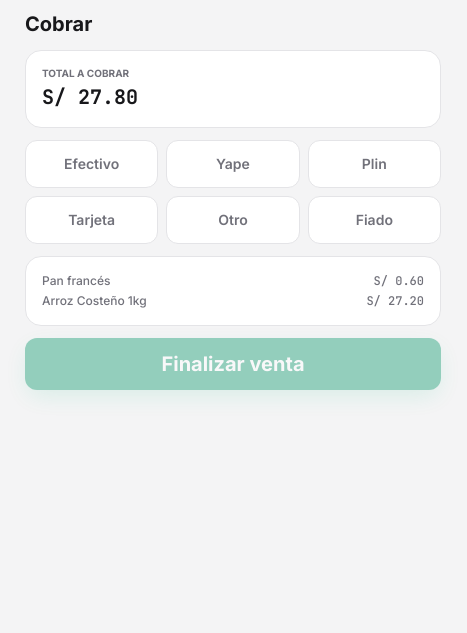
Test: CheckoutScreen › charges the exact amount for the wallet methods, without bill chips
The width and height of the screenshot is (467, 633).
Step 1. Click the button with test id "tender-method-plin" → (374, 164), box 308,140 -> 441,188
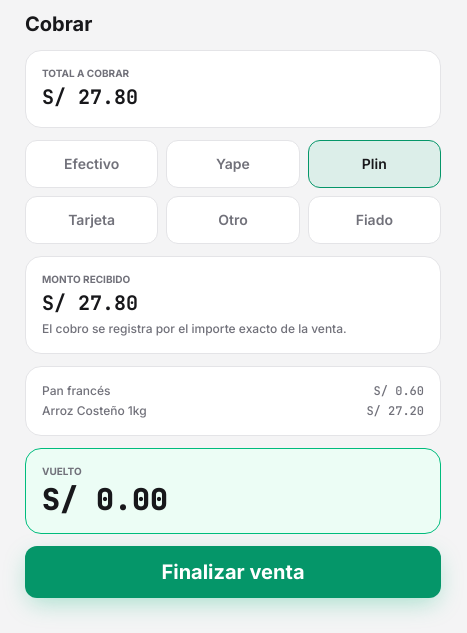
Result: the element with test id "checkout-received" reads "S/ 27.80" at 42,290 -> 138,316
Result: the element with test id "checkout-change" shows "S/ 0.00" at 42,479 -> 168,519
